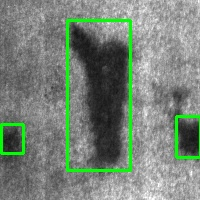patches: (67, 20, 130, 170), (176, 116, 200, 157), (1, 124, 23, 153)
